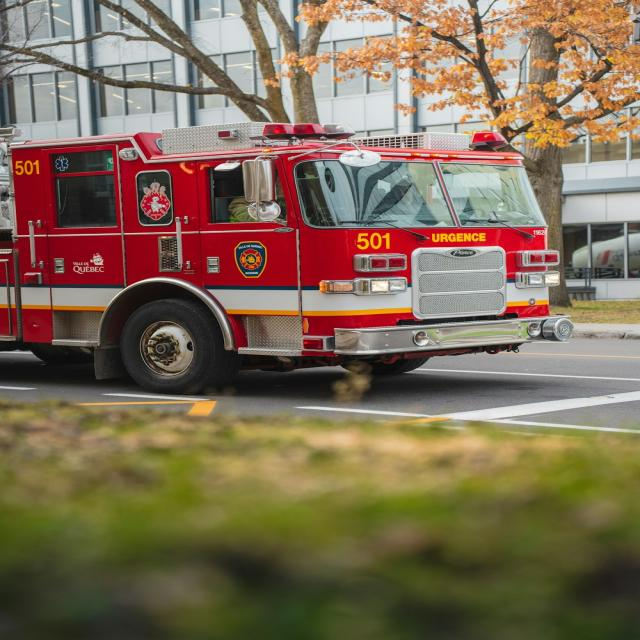emergency: (0, 121, 572, 394)
